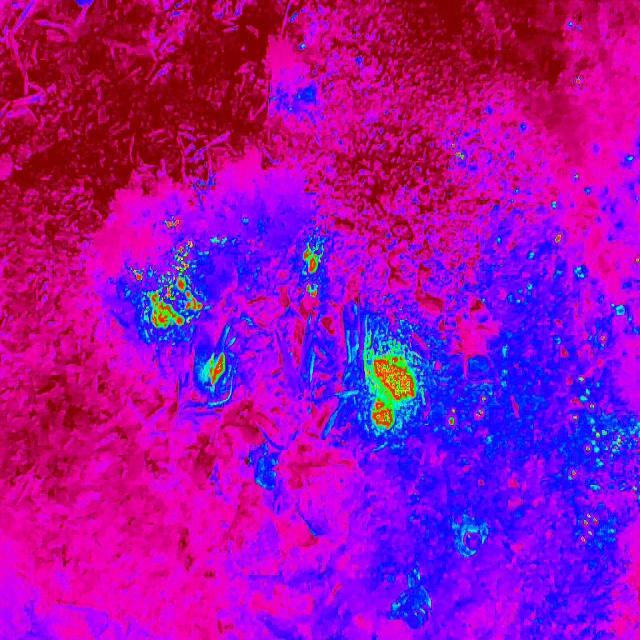fire: (546, 226, 640, 559), (132, 238, 204, 330), (364, 348, 416, 433), (445, 390, 492, 432), (299, 240, 325, 300), (200, 351, 228, 394), (161, 212, 184, 232), (448, 146, 468, 162)
